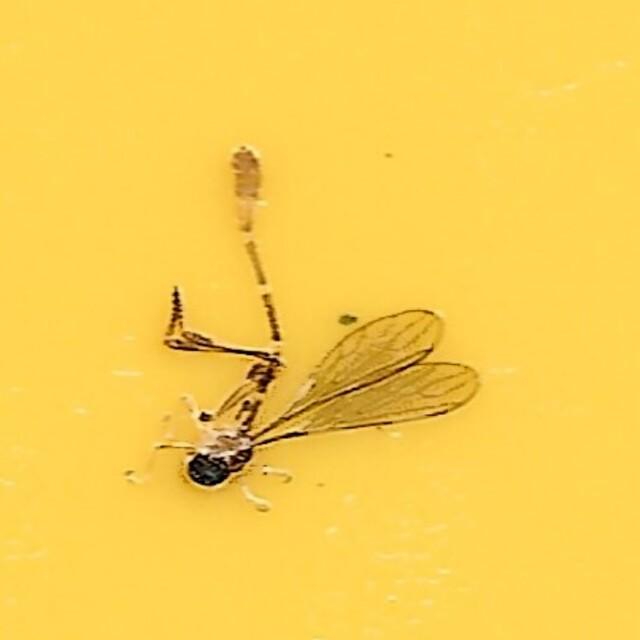Nematocera: (159, 141, 481, 499)
